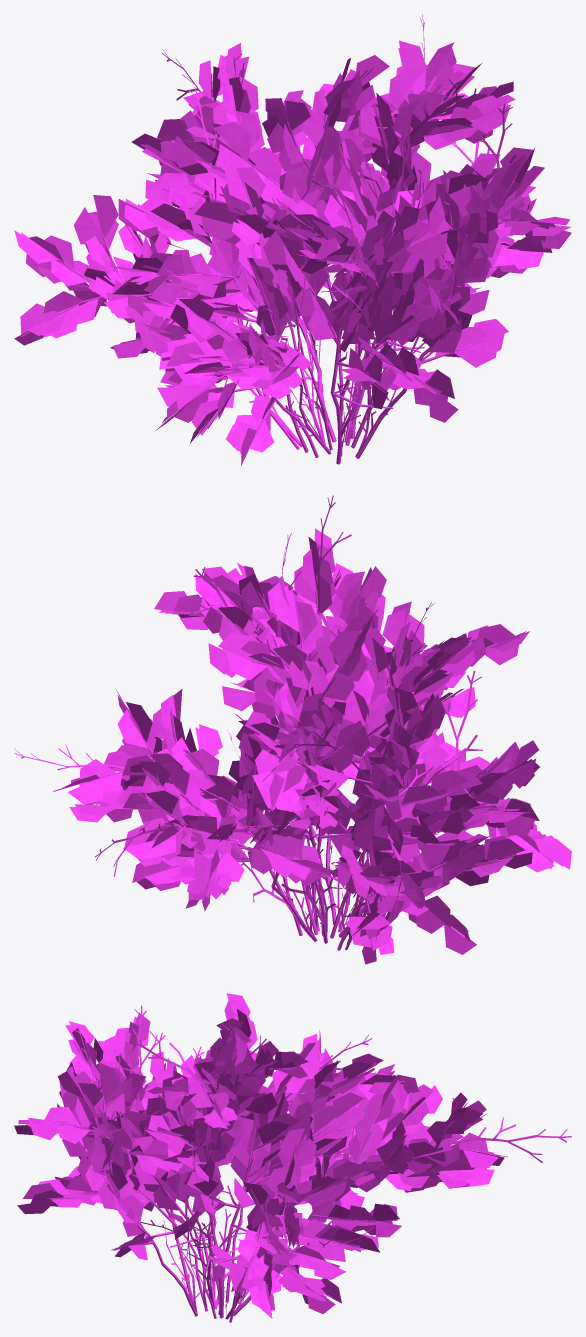
The model's file is wild_rooibos_bush_8k.gltf.
3 renders of one model, top to bottom at view 1: azimuth 30°, elevation 25°; view 2: azimuth 150°, elevation 25°; view 3: azimuth 270°, elevation 25°, orthographic. The views are drawn at different scales.
Visible parts, largest first — view 1: wild_rooibos_bush_a.001; view 2: wild_rooibos_bush_a.001; view 3: wild_rooibos_bush_a.001.
Boxes of the visible parts, box(x1,y1,x2,y2) form: wild_rooibos_bush_a.001: box(14, 14, 571, 465); wild_rooibos_bush_a.001: box(14, 495, 571, 964); wild_rooibos_bush_a.001: box(14, 993, 571, 1322).
Bounding box in the file's own units: 0.6966 × 0.5395 × 0.8434.
